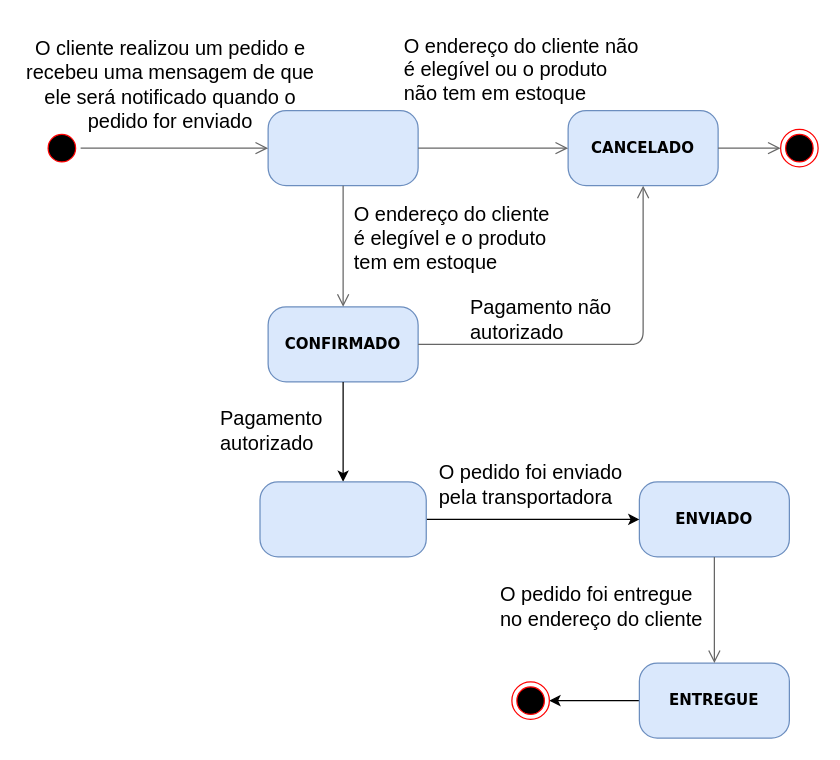
The diagram is 840 pixels wide and 760 high, and some of its shapes have lost their labels. Here are the shapes that lost their labels. From the top down, the centre of each, then its label:
At point 342,147: "RECEBIDO".
At point 342,519: "EM_PREPARACAO".
